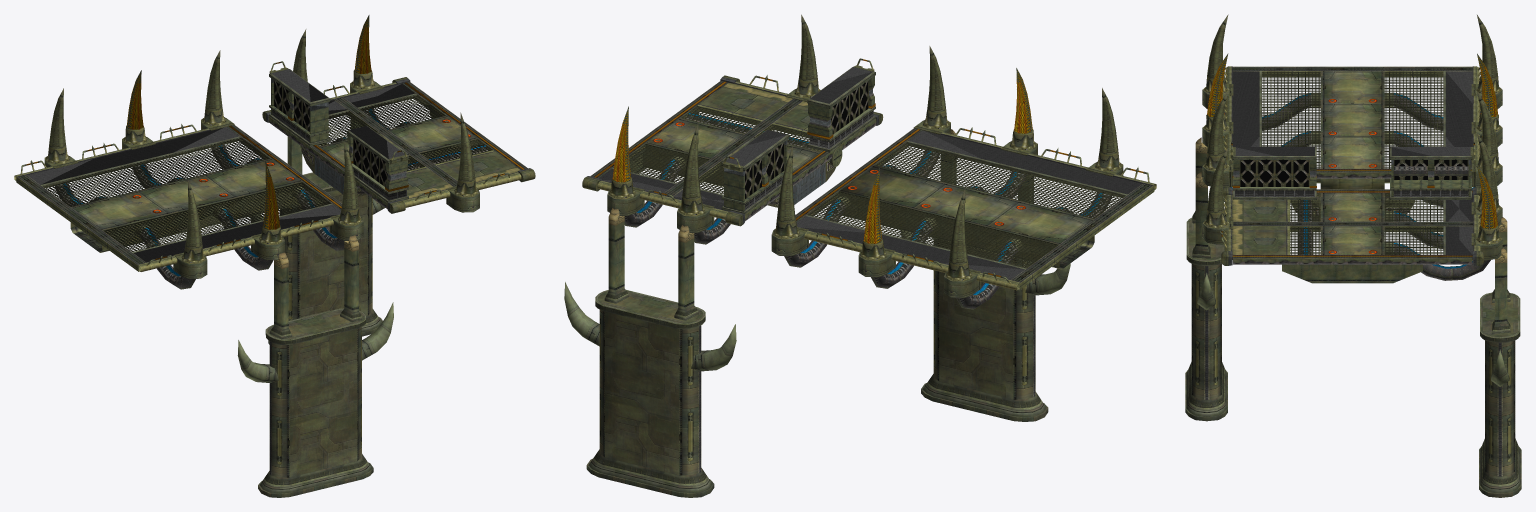
Rendered from stg610_10.obj.
The picture shows the model from 3 angles, left to right: view 1: azimuth 30°, elevation 25°; view 2: azimuth 150°, elevation 25°; view 3: azimuth 270°, elevation 25°; orthographic projection. The views are drawn at different scales.
Visible parts, largest first — view 1: polygon1, polygon20, polygon52, polygon50, polygon17, polygon64, polygon21, polygon22, polygon53, polygon2, polygon54, polygon60 (+27 smaller); view 2: polygon1, polygon17, polygon52, polygon20, polygon50, polygon18, polygon64, polygon14, polygon53, polygon21, polygon2, polygon60 (+34 smaller); view 3: polygon1, polygon52, polygon64, polygon2, polygon50, polygon21, polygon18, polygon60, polygon53, polygon61, polygon67, polygon14 (+43 smaller).
Part boxes in pixels (<box>): polygon1: <box>43,137,330,251</box>; polygon20: <box>289,329,357,477</box>; polygon52: <box>19,125,341,264</box>; polygon50: <box>27,127,340,262</box>; polygon17: <box>300,190,367,317</box>; polygon64: <box>312,82,526,186</box>; polygon21: <box>258,327,373,497</box>; polygon22: <box>260,235,371,493</box>; polygon53: <box>14,125,341,271</box>; polygon2: <box>318,95,492,170</box>; polygon54: <box>70,182,302,251</box>; polygon60: <box>269,82,527,207</box>; polygon1: <box>808,142,1124,268</box>; polygon17: <box>605,311,679,475</box>; polygon52: <box>795,129,1150,281</box>; polygon20: <box>939,240,1013,399</box>; polygon50: <box>796,130,1142,279</box>; polygon18: <box>586,310,714,497</box>; polygon64: <box>592,81,827,196</box>; polygon14: <box>589,208,712,492</box>; polygon53: <box>795,128,1156,290</box>; polygon21: <box>921,238,1048,421</box>; polygon2: <box>629,106,820,193</box>; polygon60: <box>590,78,875,219</box>; polygon1: <box>1262,71,1443,168</box>; polygon52: <box>1232,67,1472,171</box>; polygon64: <box>1233,190,1473,257</box>; polygon2: <box>1290,193,1443,254</box>; polygon50: <box>1232,71,1472,168</box>; polygon21: <box>1185,264,1227,421</box>; polygon18: <box>1479,340,1521,497</box>; polygon60: <box>1222,189,1481,258</box>; polygon53: <box>1223,66,1481,172</box>; polygon61: <box>1282,264,1422,283</box>; polygon67: <box>1243,199,1286,254</box>; polygon14: <box>1480,217,1520,493</box>.
Bounding box in the file's own units: 582 × 447 × 422.
25 materials, 25 textured.
